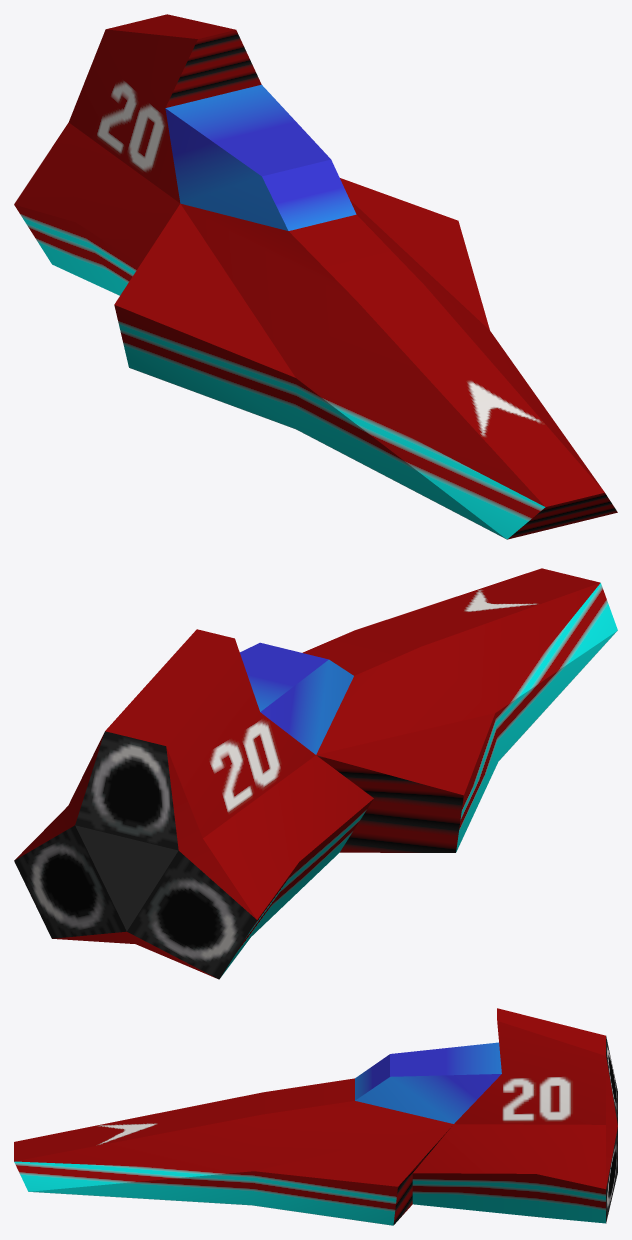
3 views of the same model, one above another, from view 1: azimuth 30°, elevation 25°; view 2: azimuth 150°, elevation 25°; view 3: azimuth 270°, elevation 25° (orthographic). The views are drawn at different scales.
Parts seen in each view (by area): view 1: Joint_0_Object_0; view 2: Joint_0_Object_0; view 3: Joint_0_Object_0.
Part boxes in pixels (box(x1,y1,x2,y2)): Joint_0_Object_0: box(14, 14, 617, 539); Joint_0_Object_0: box(14, 568, 617, 979); Joint_0_Object_0: box(14, 1008, 617, 1225).
Size of the model in its own units: 23.72 by 17.69 by 53.42.
Materials: 1 (1 with a texture image).
